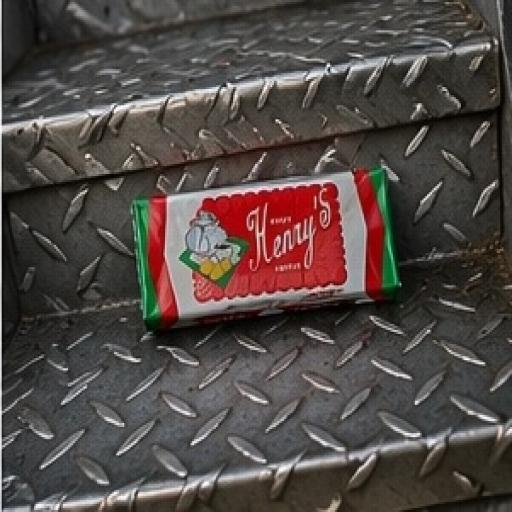henry-s: (70, 136, 441, 366)
